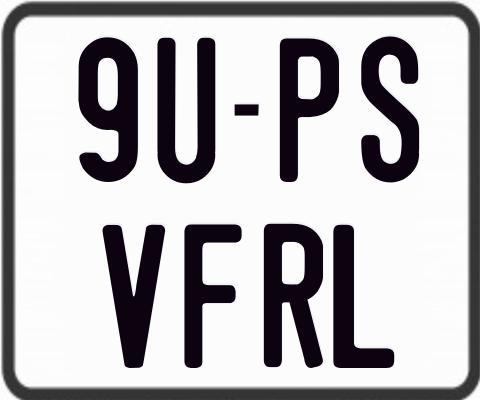9: (77, 35, 143, 181)
F: (183, 222, 245, 367)
L: (330, 222, 395, 371)
P: (277, 37, 339, 183)
R: (264, 224, 323, 371)
S: (361, 34, 420, 182)
U: (157, 37, 216, 188)
V: (100, 222, 163, 365)
